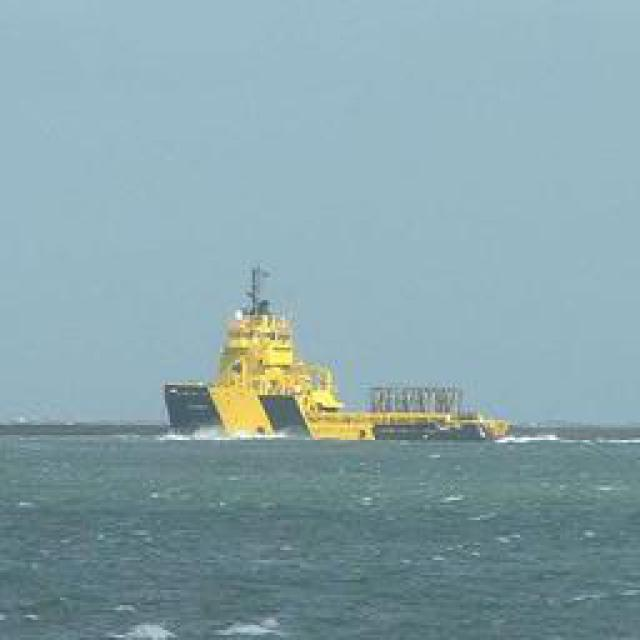Ship: (165, 261, 468, 446)
